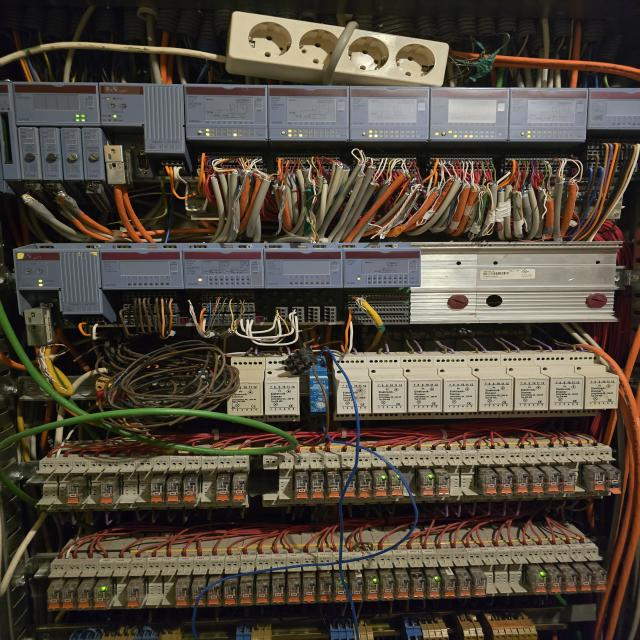Dimmer: (532, 354, 586, 417), (565, 353, 619, 416), (499, 355, 550, 417), (466, 355, 515, 418), (433, 356, 479, 419), (400, 356, 443, 419), (366, 357, 408, 420), (227, 357, 265, 424), (332, 356, 371, 420), (266, 358, 300, 422), (306, 352, 328, 416)
Relais: (342, 474, 357, 499), (66, 483, 82, 506), (513, 472, 529, 495), (94, 587, 110, 610), (530, 472, 545, 496), (374, 473, 388, 498), (436, 472, 450, 497), (100, 483, 115, 506), (295, 476, 309, 500), (326, 475, 340, 499), (421, 473, 435, 497), (183, 482, 198, 504), (215, 481, 230, 503), (590, 470, 605, 492), (61, 588, 76, 610), (126, 588, 141, 610), (311, 475, 324, 500), (546, 471, 560, 494), (562, 471, 576, 494), (607, 471, 621, 494), (175, 586, 189, 609), (358, 474, 371, 498), (390, 473, 403, 497), (150, 482, 164, 504), (77, 588, 91, 610), (207, 585, 221, 607), (239, 584, 253, 606), (548, 572, 562, 594), (483, 473, 496, 496), (499, 472, 512, 495), (167, 482, 181, 503), (232, 481, 246, 502), (256, 584, 270, 605), (303, 582, 317, 603), (47, 588, 60, 610), (192, 586, 205, 608), (223, 585, 236, 607), (350, 580, 363, 602), (459, 576, 472, 598), (272, 583, 285, 604), (319, 582, 332, 603), (564, 572, 577, 593), (594, 571, 607, 592), (366, 579, 378, 601), (382, 579, 394, 601), (444, 576, 456, 598), (474, 576, 486, 598), (534, 572, 546, 594), (580, 571, 592, 593), (288, 583, 300, 604), (428, 578, 440, 599), (336, 580, 347, 602), (413, 578, 424, 600), (397, 579, 409, 599)
SPS-System -Steuerungskomponente-: (184, 84, 267, 140), (268, 85, 349, 141), (350, 86, 429, 142), (430, 86, 509, 141), (510, 87, 587, 140), (13, 81, 100, 124), (100, 82, 183, 127), (12, 248, 99, 288), (100, 248, 184, 288), (264, 249, 342, 289), (184, 249, 264, 287), (343, 249, 420, 286), (587, 89, 640, 129)
Schaltkasten: (1, 0, 640, 640)
Verbinder: (70, 624, 182, 640), (485, 613, 538, 640), (402, 614, 449, 640), (328, 619, 373, 640), (455, 613, 485, 640), (234, 622, 272, 640)
